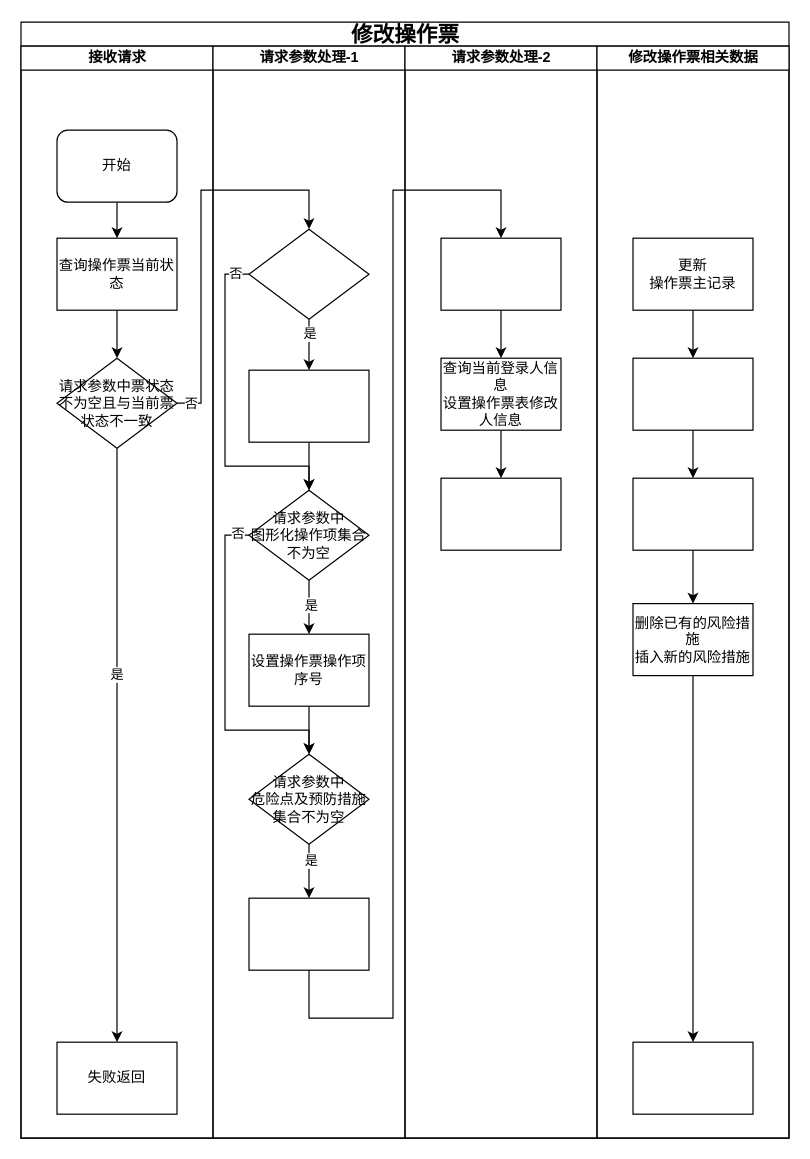
Some shapes in this 810 by 1159 pixel diagram are drawn without their labels. The shapes that lost their labels are listed below. From the top down, each one's centre as x and y in pixels, then its label:
the point at 308,273: 请求参数中 操作票操作项集合不为空
the point at 500,273: 设置操作票实际操作步数
the point at 308,405: 设置操作票操作项序号 设置操作票总步骤数
the point at 692,393: 删除旧的非图形化操作项 插入新的 非图形化操作项
the point at 500,513: 设置操作票的开票来源
the point at 692,513: 删除旧的图形化操作项 插入新的图形化操作项
the point at 308,933: 设置危险点与预防措施的序号
the point at 692,1077: 成功返回
